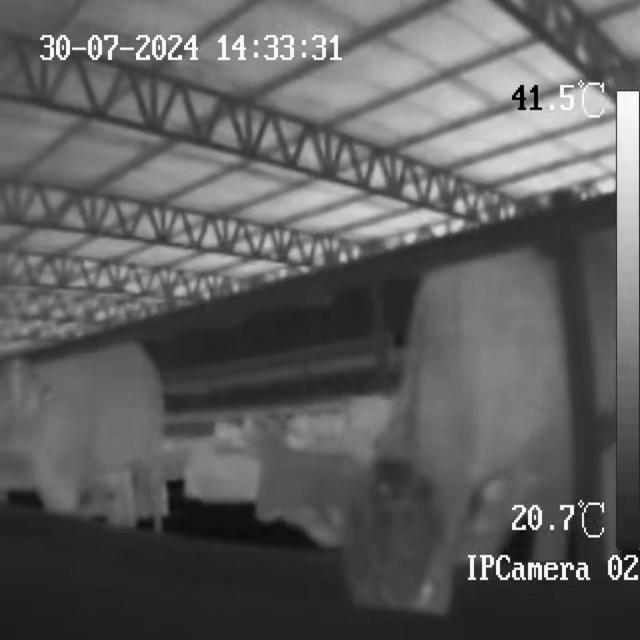eye: (408, 571, 439, 606)
head: (337, 450, 457, 612)
